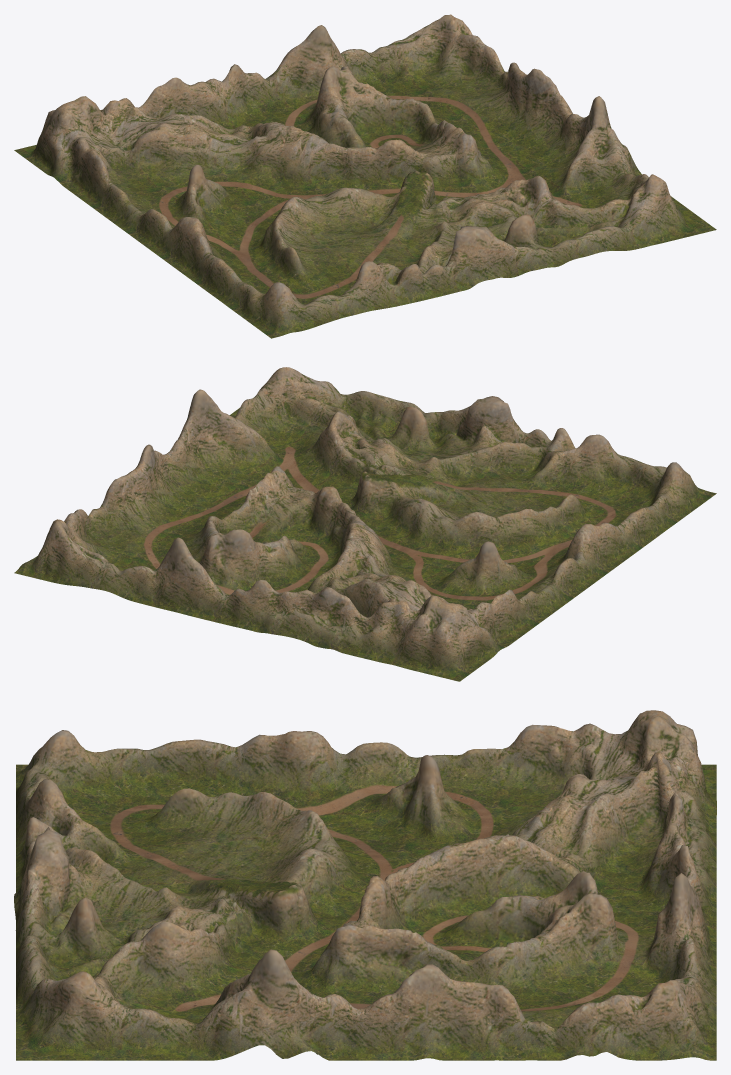
The model's file is rocky_path.glb.
3 renders of one model, top to bottom at view 1: azimuth 30°, elevation 25°; view 2: azimuth 150°, elevation 25°; view 3: azimuth 270°, elevation 25°, orthographic. The views are drawn at different scales.
Visible parts, largest first — view 1: Object_2; view 2: Object_2; view 3: Object_2.
Part boxes in pixels (x1,y1,x2,y2): Object_2: [14, 14, 716, 338]; Object_2: [14, 367, 716, 681]; Object_2: [14, 710, 716, 1060].
Size of the model in its own units: 14.89 by 2.4 by 14.93.
1 material, 1 textured.
